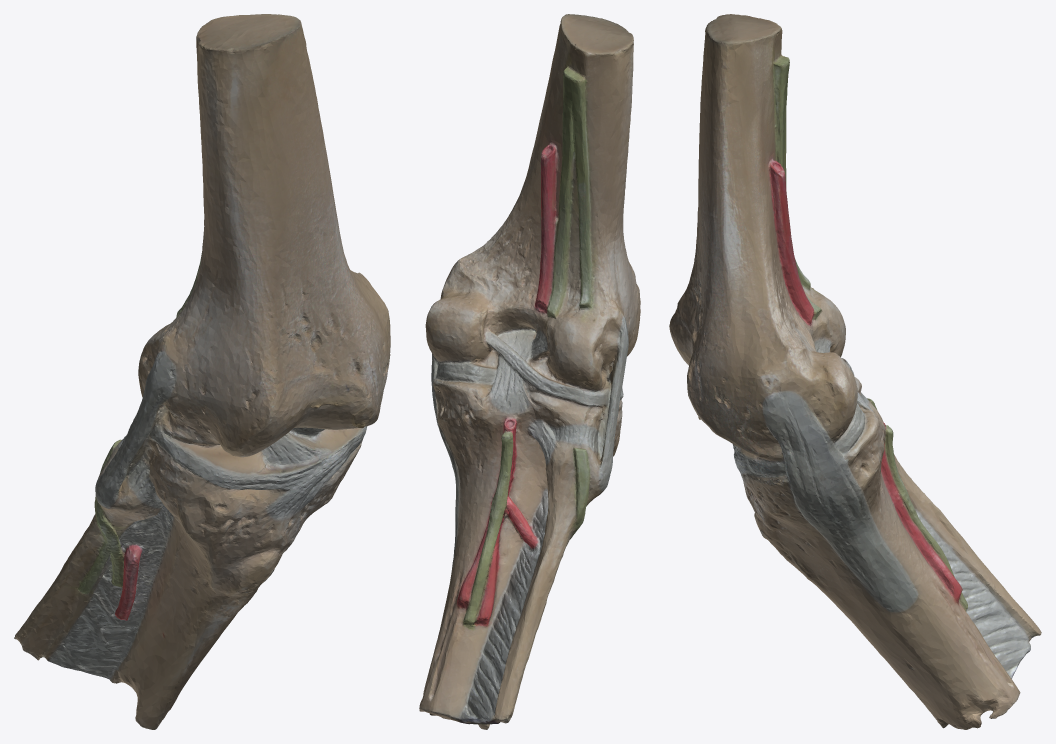
File: knee.glb
3 views of the same model, side by side, from view 1: azimuth 30°, elevation 25°; view 2: azimuth 150°, elevation 25°; view 3: azimuth 270°, elevation 25° (orthographic). The views are drawn at different scales.
Visible parts, largest first — view 1: Sharp Fusion 1; view 2: Sharp Fusion 1; view 3: Sharp Fusion 1.
Part boxes in pixels (bbox=[...]): Sharp Fusion 1: bbox=[14, 14, 390, 729]; Sharp Fusion 1: bbox=[419, 14, 640, 729]; Sharp Fusion 1: bbox=[669, 14, 1041, 729].
Size of the model in its own units: 82.96 by 262 by 127.
1 material, 1 textured.
